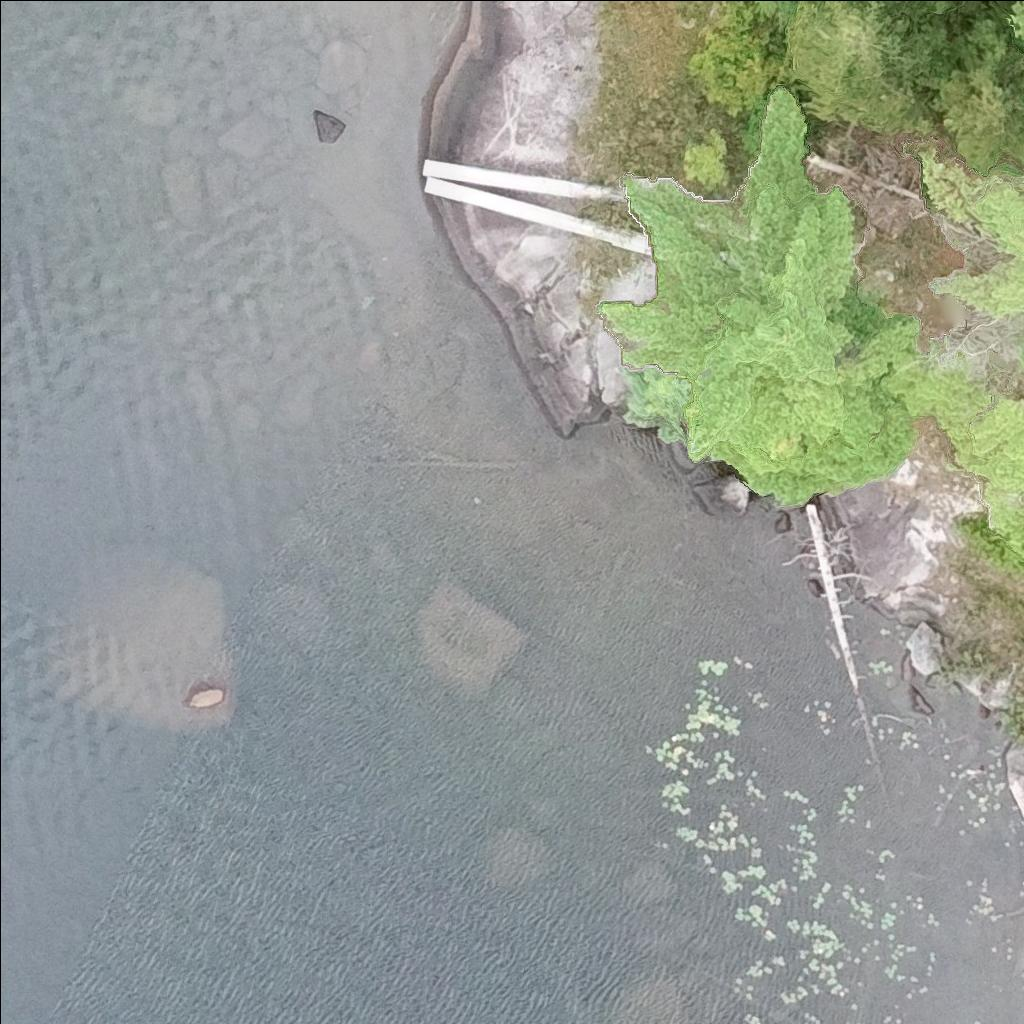crown: (599, 97, 924, 510), (897, 364, 1023, 556), (790, 0, 964, 134), (921, 152, 1023, 316), (930, 53, 1023, 171), (949, 22, 1014, 71), (913, 0, 956, 15), (882, 0, 909, 18), (1012, 0, 1023, 35), (795, 0, 809, 18)
